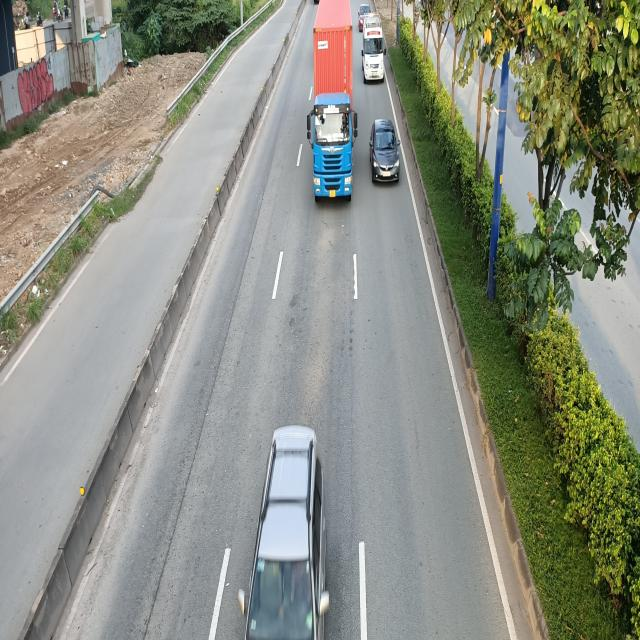car: (238, 421, 329, 636), (367, 117, 399, 183)
container: (309, 0, 360, 200)
van: (360, 13, 385, 84)
